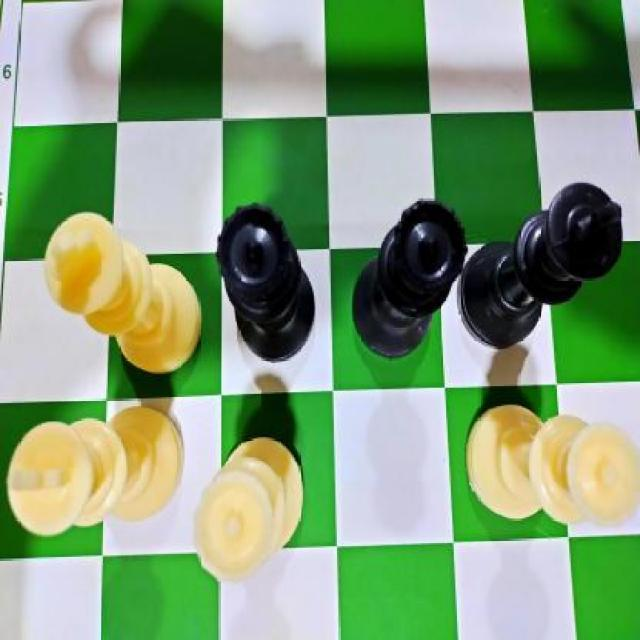black-king: (459, 180, 624, 350)
black-queen: (350, 200, 468, 360), (215, 202, 316, 362)
white-king: (44, 211, 205, 373), (6, 403, 183, 537)
white-queen: (465, 403, 640, 526), (193, 437, 304, 577)
